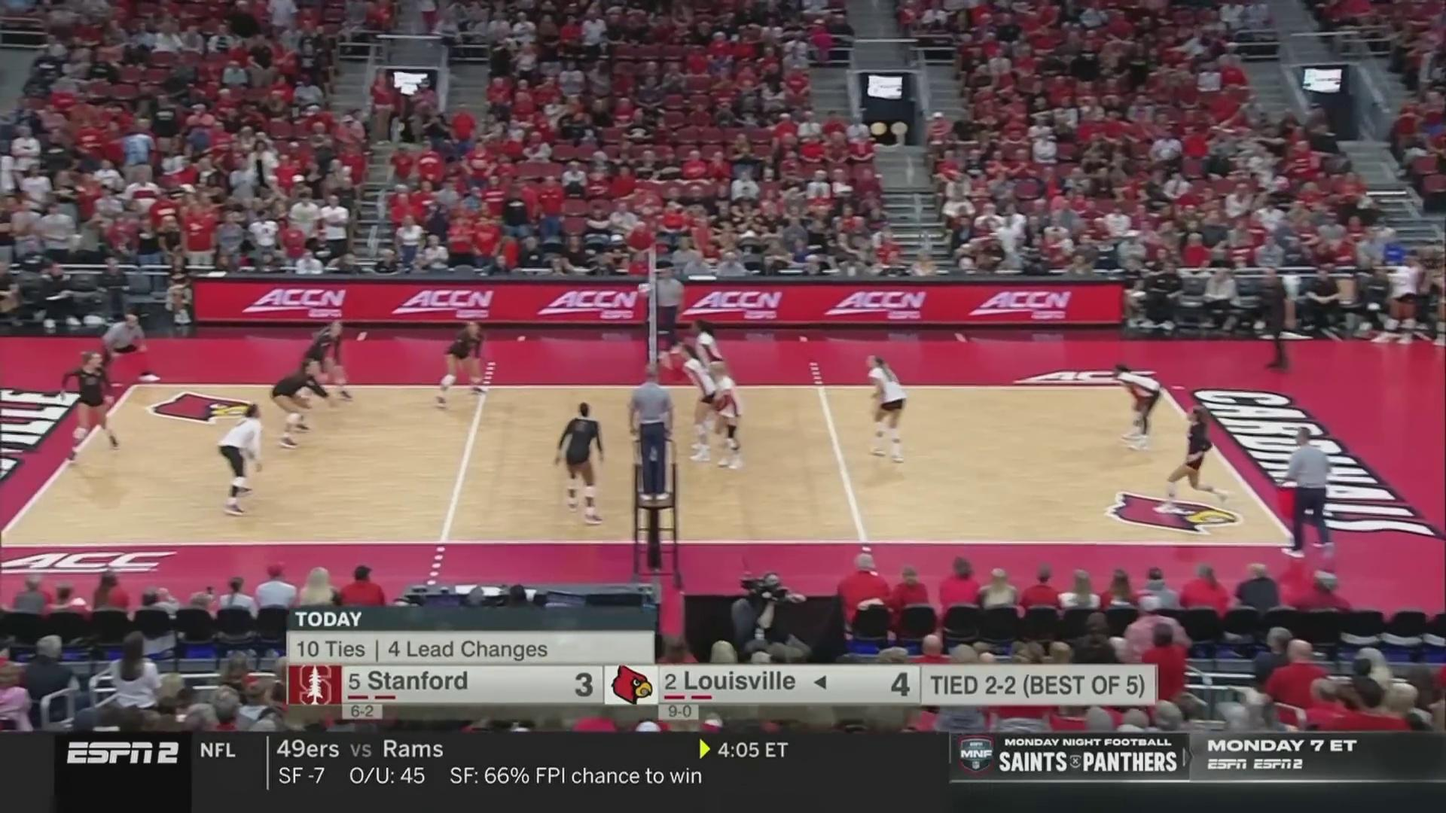player: (1157, 403, 1232, 515), (59, 353, 119, 465), (553, 403, 607, 523), (268, 359, 330, 449), (215, 405, 263, 515), (1109, 361, 1165, 452), (298, 321, 354, 403), (433, 323, 487, 408), (863, 355, 906, 461), (708, 361, 745, 472), (682, 347, 715, 465), (689, 318, 724, 422)
refree: (1279, 428, 1337, 560), (627, 368, 675, 497), (92, 312, 161, 384), (651, 269, 684, 355)
